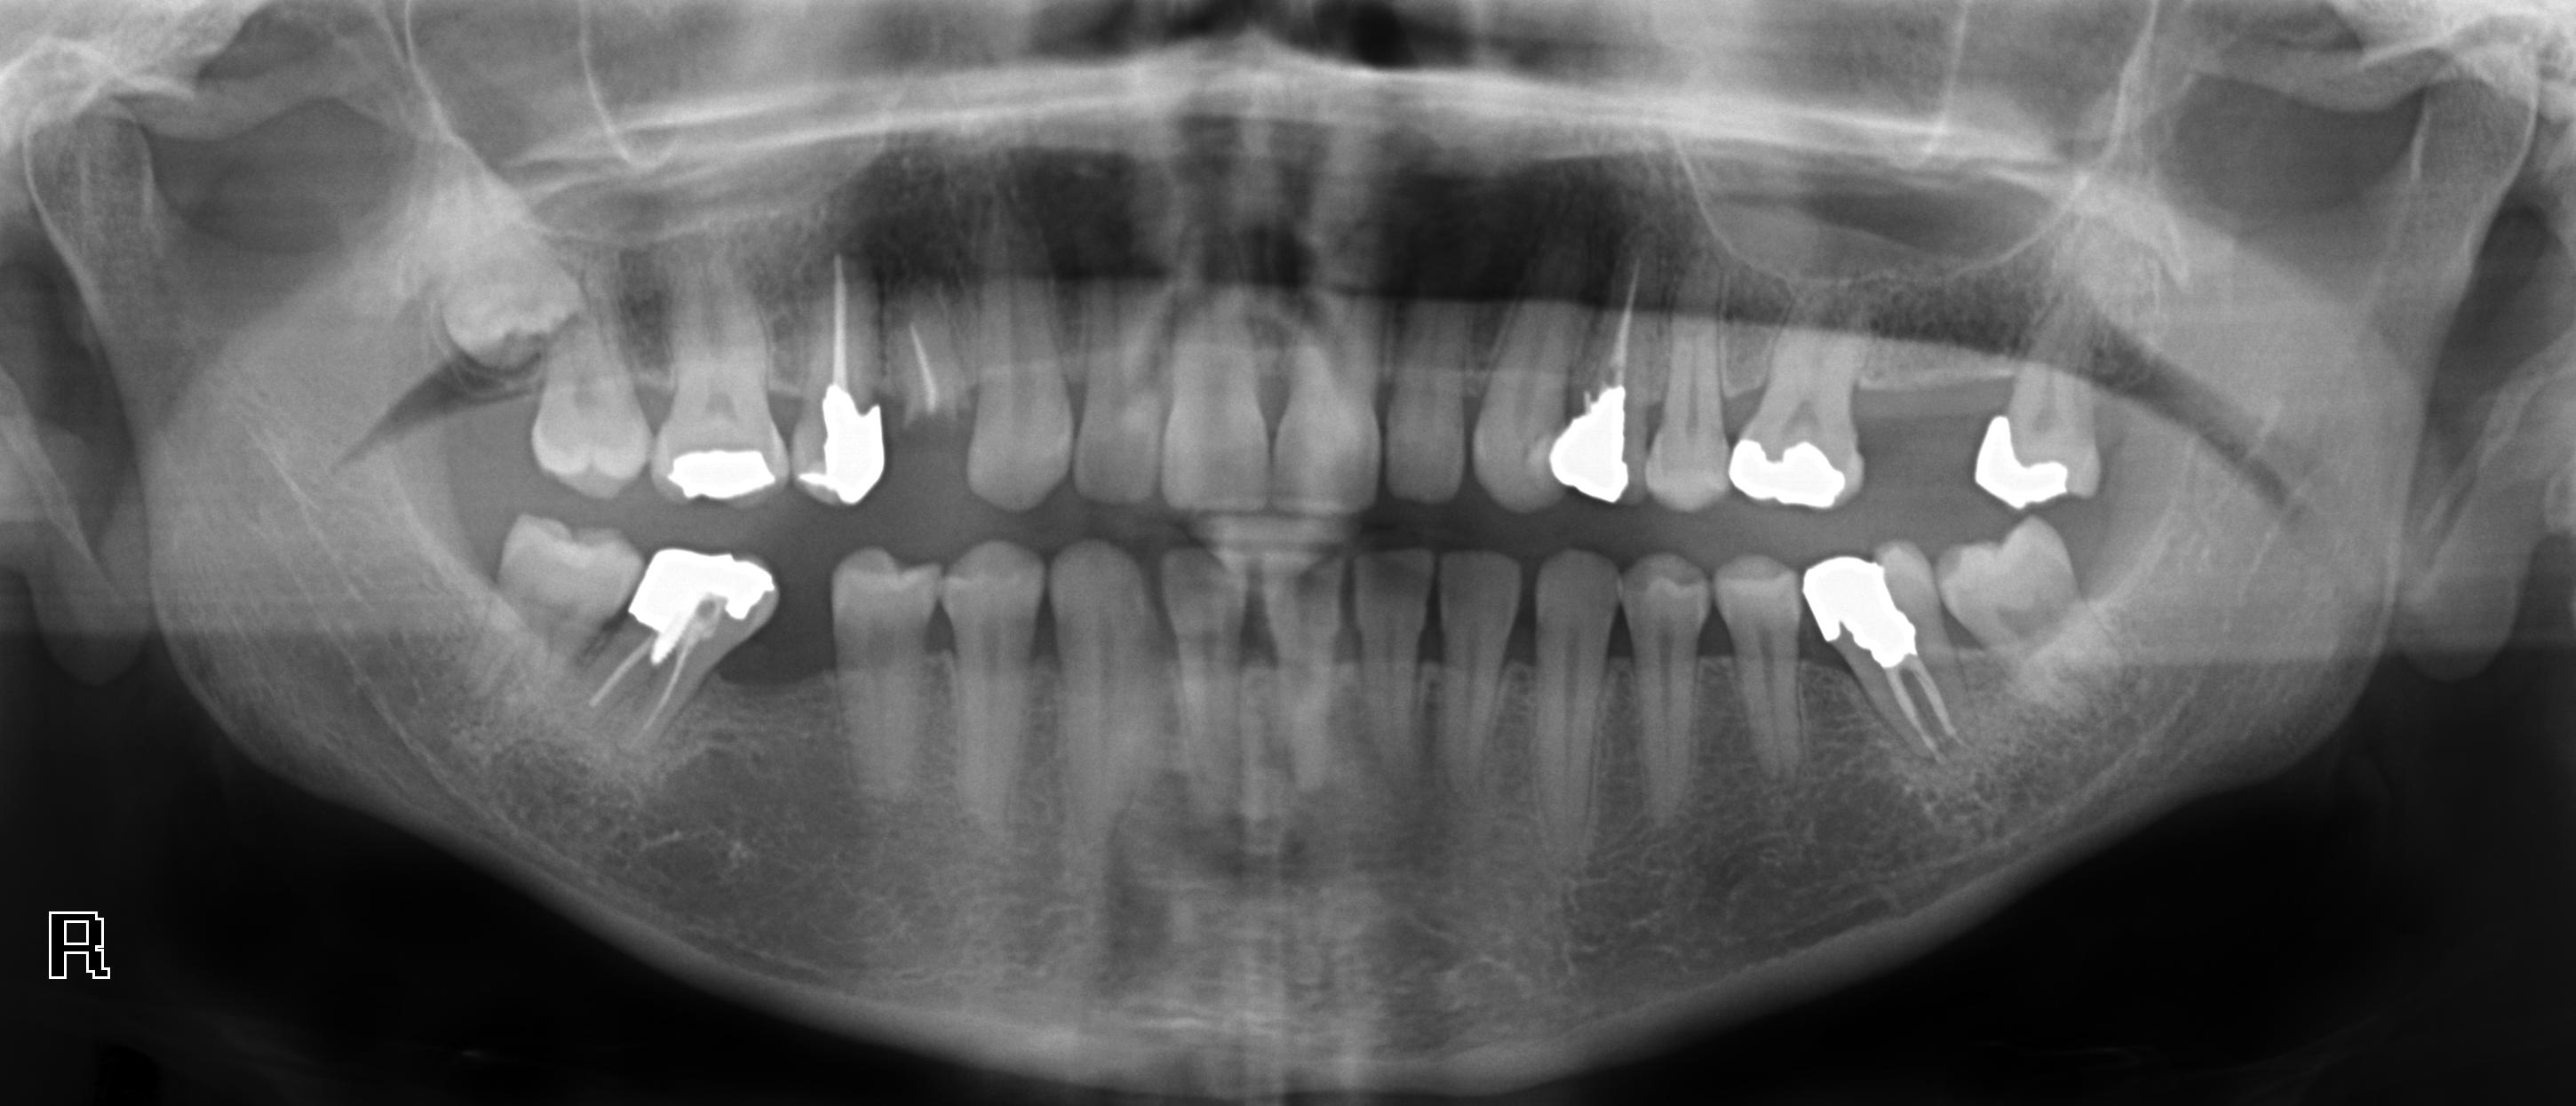Çürük: (629, 532, 785, 666), (1797, 551, 1930, 677), (1554, 376, 1640, 511), (1965, 411, 2080, 509), (1720, 427, 1858, 508), (802, 388, 895, 500), (660, 449, 780, 508)
